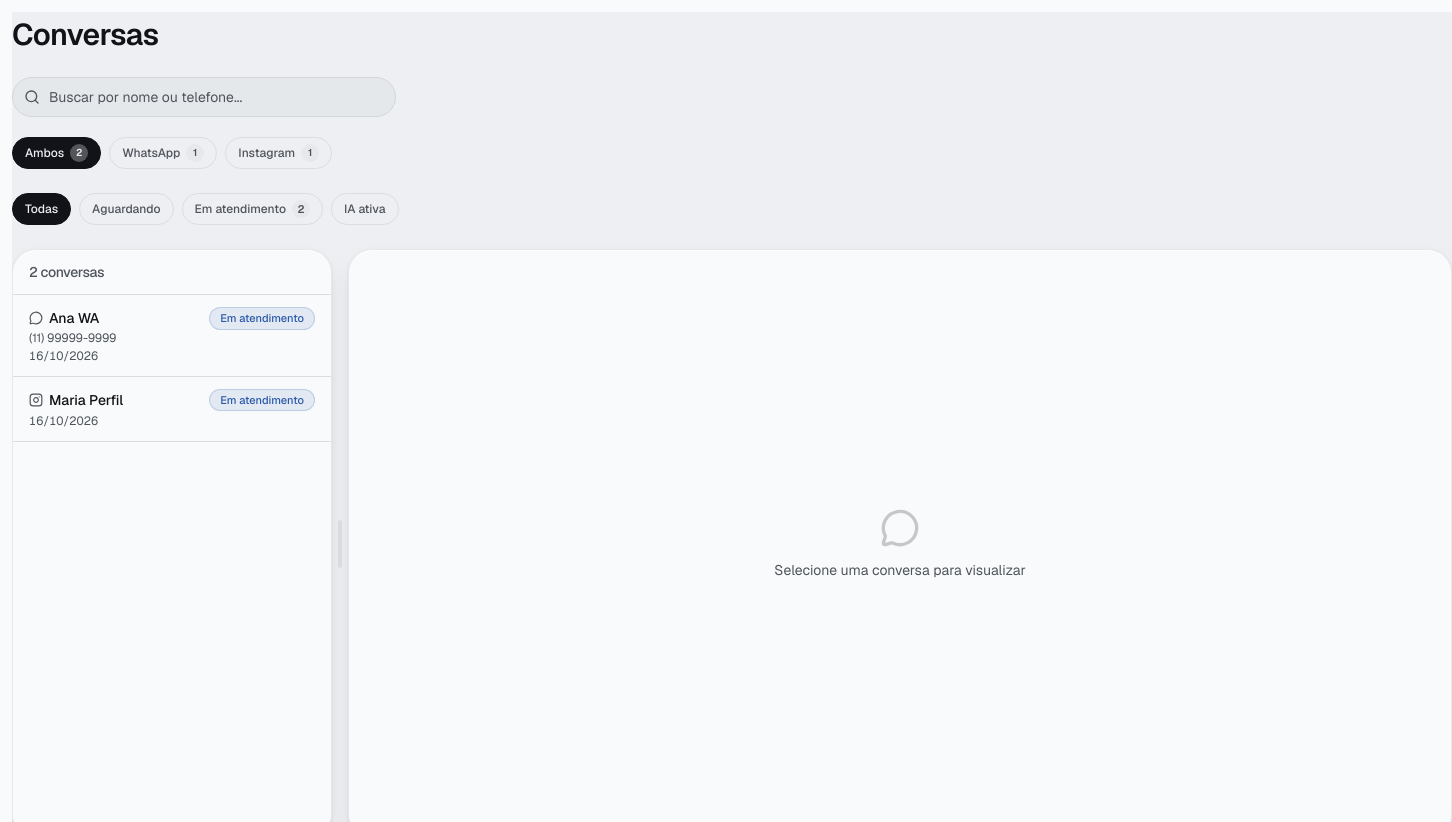
Conversa do Instagram: envio, copy e identidade › busca pelo @username acha a conversa do IG mesmo com outro nome no perfil
The image size is (1452, 822).
Step 1. Type "@maria_ig" into the field with placeholder "Buscar por nome ou telefone..." → point(204, 97), box [12, 77, 396, 117]
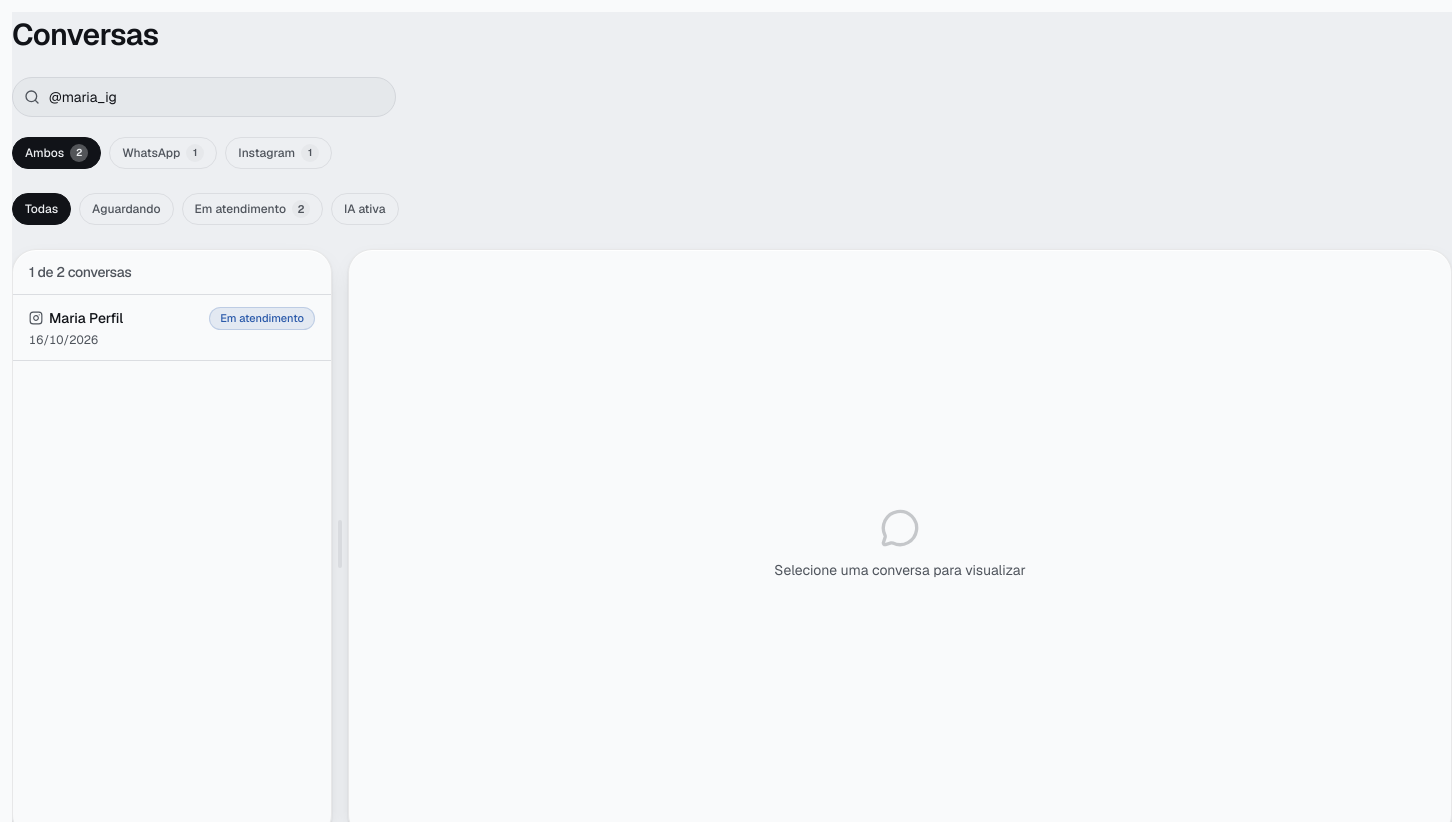
Expected: the text "Maria Perfil" is shown, [49, 308, 123, 328]
Expected: the button "Ana WA" is gone
Controle: termo que não casa nada esconde também a conversa do IG.
Step 2. Replace the text in the field with placeholder "Buscar por nome ou telefone..." with "@outra_conta" → point(204, 97), box [12, 77, 396, 117]
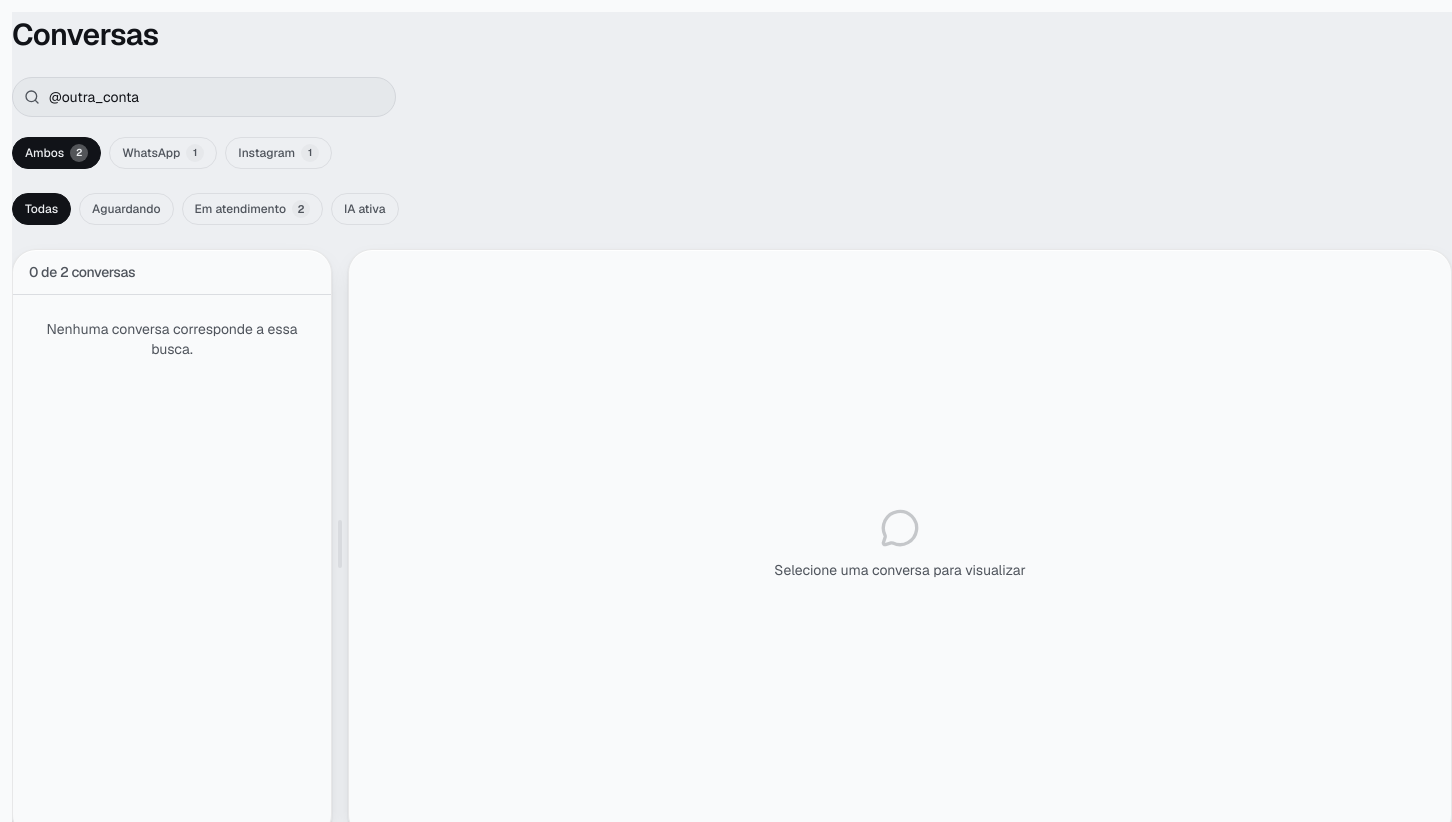
Expected: the button "Maria Perfil" is gone
